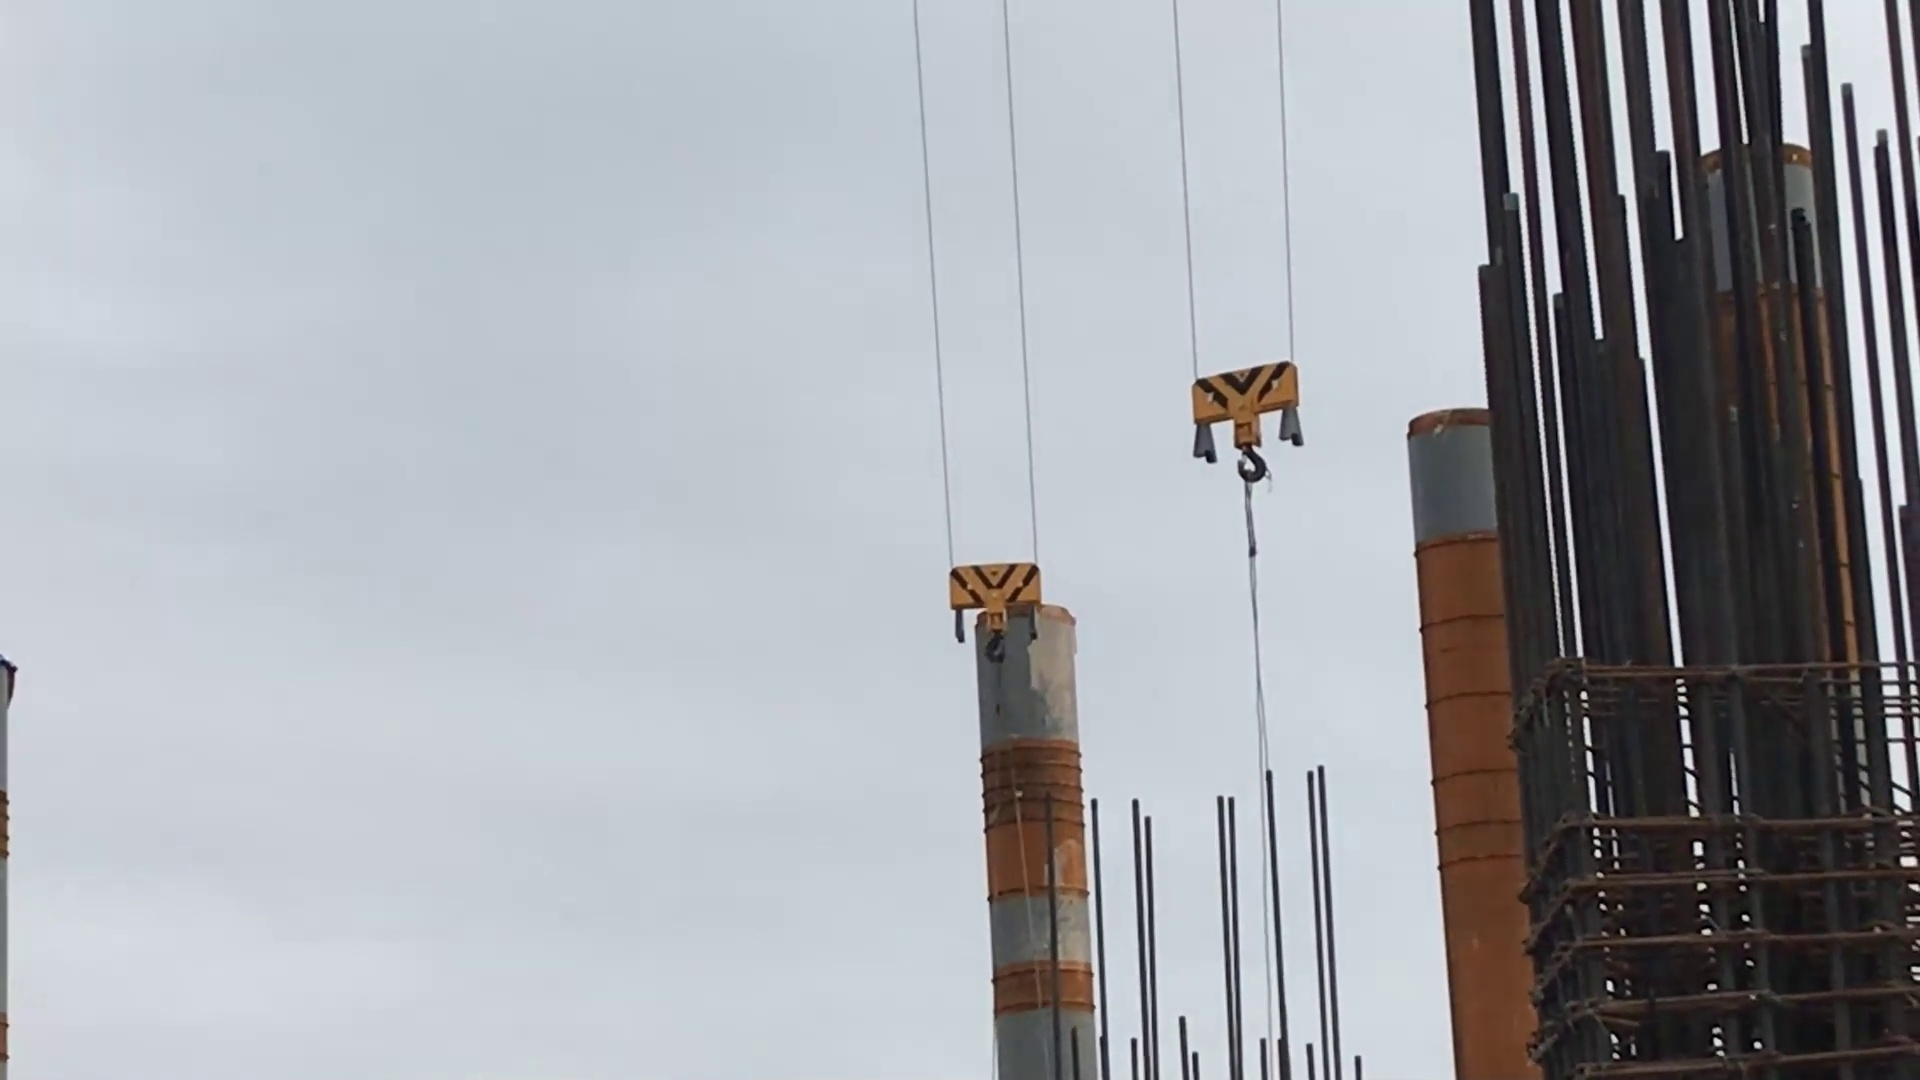hook: (1187, 359, 1307, 488), (945, 559, 1042, 669)
